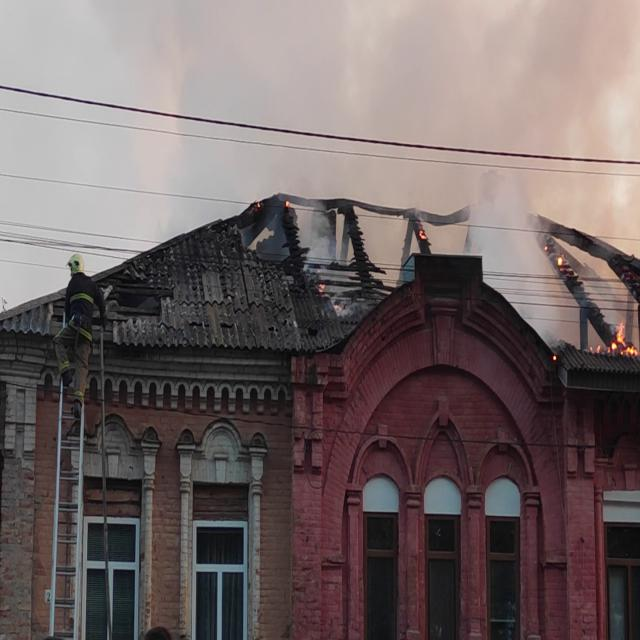fire: (602, 319, 640, 358)
smoke: (489, 208, 543, 310)
